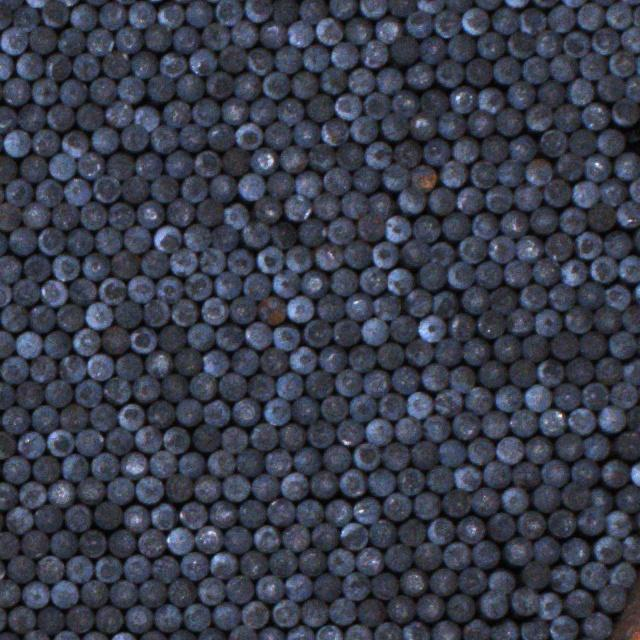tool: (582, 612, 613, 640), (445, 592, 474, 621), (596, 585, 626, 613), (436, 59, 464, 88), (516, 512, 545, 540), (532, 482, 560, 511), (565, 589, 594, 617), (504, 537, 533, 565), (592, 535, 621, 563), (479, 589, 508, 617), (520, 561, 550, 588), (244, 320, 272, 348), (238, 551, 266, 579), (8, 554, 36, 582), (541, 458, 569, 486), (359, 39, 387, 67), (544, 233, 572, 261), (230, 346, 258, 374), (232, 396, 260, 424), (524, 102, 552, 130), (304, 370, 332, 398), (342, 240, 370, 268), (568, 408, 596, 436), (280, 522, 308, 550), (594, 356, 622, 384), (364, 142, 392, 170), (37, 228, 65, 256), (412, 540, 440, 568), (478, 360, 506, 388), (341, 571, 369, 599), (457, 566, 485, 594), (340, 522, 368, 550), (579, 332, 607, 360), (104, 426, 132, 454), (390, 36, 418, 64), (221, 146, 249, 174), (208, 500, 236, 528), (486, 513, 514, 541), (429, 567, 457, 595), (442, 540, 470, 568), (357, 598, 385, 626), (308, 469, 336, 497), (500, 208, 528, 236), (97, 276, 125, 304), (312, 572, 340, 600), (511, 586, 539, 614), (109, 251, 137, 279), (580, 560, 608, 588), (456, 516, 484, 544), (258, 296, 286, 324), (548, 508, 576, 536), (560, 537, 588, 565), (298, 219, 326, 247), (165, 474, 192, 502), (324, 166, 351, 194), (138, 580, 165, 608), (310, 521, 337, 549), (50, 528, 77, 556), (28, 26, 56, 53), (555, 432, 582, 460), (497, 437, 524, 465), (148, 450, 176, 477), (208, 174, 235, 202), (34, 180, 62, 207), (137, 528, 164, 556), (378, 392, 405, 420), (590, 27, 618, 54), (93, 175, 121, 202), (251, 146, 278, 174), (70, 4, 98, 31), (581, 382, 608, 410), (127, 0, 155, 27), (135, 200, 162, 228), (233, 71, 260, 99), (196, 525, 223, 553), (382, 492, 409, 520), (550, 332, 577, 360), (191, 98, 218, 126), (192, 424, 220, 451), (240, 599, 267, 627), (508, 360, 536, 387), (262, 397, 290, 424), (226, 576, 253, 604), (271, 599, 299, 626), (33, 505, 60, 533), (188, 373, 215, 401), (134, 477, 162, 504), (79, 528, 106, 556), (348, 393, 376, 420), (201, 22, 228, 50), (169, 248, 197, 275), (86, 302, 113, 330), (406, 338, 433, 366), (206, 449, 234, 476), (518, 284, 545, 312), (222, 474, 250, 501), (198, 576, 225, 604), (566, 356, 593, 384), (180, 552, 207, 580), (477, 30, 504, 58), (250, 96, 277, 124), (189, 48, 216, 76), (394, 141, 422, 168), (45, 428, 72, 456), (145, 23, 172, 51), (610, 381, 638, 408), (167, 578, 194, 606), (298, 549, 326, 576), (496, 107, 523, 135), (261, 346, 288, 374), (235, 122, 262, 150), (417, 313, 444, 341), (534, 307, 561, 335), (574, 232, 601, 260), (317, 344, 344, 372), (354, 548, 381, 576), (328, 217, 355, 245), (392, 364, 419, 392), (278, 144, 305, 172), (94, 500, 121, 528), (471, 488, 498, 516), (415, 592, 442, 620), (461, 285, 488, 313), (60, 404, 87, 432), (236, 449, 264, 476), (412, 215, 439, 243), (330, 268, 357, 296), (106, 201, 133, 229), (383, 542, 410, 570), (148, 400, 175, 428), (59, 79, 86, 107), (15, 379, 42, 407), (344, 293, 372, 320), (540, 128, 567, 156), (262, 72, 289, 100), (155, 603, 182, 631), (447, 33, 475, 60), (582, 432, 610, 459), (153, 224, 181, 251), (514, 182, 541, 210), (264, 122, 291, 150), (63, 176, 90, 204), (95, 604, 122, 632), (569, 128, 596, 156), (372, 293, 400, 320), (22, 253, 50, 280), (302, 44, 329, 72), (122, 125, 150, 152), (347, 343, 374, 371), (1, 455, 28, 483), (442, 212, 470, 239), (306, 420, 334, 447), (398, 519, 426, 546), (251, 422, 278, 450), (602, 230, 629, 258), (501, 485, 528, 513), (472, 539, 499, 567), (380, 443, 408, 470), (434, 10, 461, 38), (398, 185, 426, 212), (577, 507, 605, 534), (300, 269, 327, 297), (406, 287, 433, 315), (247, 46, 274, 74), (547, 5, 574, 33), (356, 212, 383, 240), (512, 462, 540, 489), (572, 458, 600, 485), (442, 489, 470, 516), (609, 50, 637, 77), (560, 481, 588, 508), (256, 574, 283, 601), (165, 527, 192, 554), (486, 235, 513, 262), (279, 473, 306, 500), (321, 396, 348, 423), (9, 228, 36, 255), (269, 550, 296, 577), (284, 245, 311, 272), (205, 123, 232, 150), (552, 383, 579, 410), (166, 199, 193, 226), (303, 319, 330, 346), (17, 432, 44, 459), (471, 213, 498, 240), (543, 178, 570, 205), (349, 115, 376, 142), (151, 175, 178, 202), (267, 499, 294, 526), (19, 482, 46, 509), (492, 56, 519, 83), (0, 407, 27, 434), (296, 500, 323, 527), (264, 448, 291, 475), (218, 374, 245, 401), (184, 223, 211, 250), (193, 149, 220, 176), (523, 384, 550, 411), (120, 452, 147, 479), (335, 142, 362, 169), (330, 597, 357, 624), (557, 207, 584, 234), (230, 20, 257, 47), (283, 574, 310, 601), (116, 351, 143, 378), (75, 103, 102, 130), (287, 294, 314, 321), (89, 403, 116, 430), (531, 259, 558, 286), (315, 294, 342, 321), (524, 158, 551, 185), (209, 551, 236, 578), (140, 249, 167, 276), (382, 163, 409, 190), (38, 606, 65, 633), (215, 272, 242, 299), (344, 17, 371, 44), (406, 392, 433, 419), (117, 75, 144, 102), (418, 37, 445, 64), (405, 9, 432, 36), (300, 598, 327, 625), (465, 386, 492, 413), (483, 460, 510, 487), (423, 415, 450, 442), (132, 376, 159, 403), (451, 135, 478, 162), (171, 26, 198, 53), (158, 325, 185, 352), (75, 428, 102, 455), (47, 104, 74, 131), (104, 99, 131, 126), (325, 498, 352, 525), (16, 53, 43, 80), (76, 478, 103, 505), (162, 100, 189, 127), (174, 348, 201, 375), (205, 72, 232, 99), (213, 601, 240, 628), (178, 502, 205, 529), (9, 605, 36, 632), (556, 152, 583, 179), (22, 201, 49, 228), (115, 300, 142, 327), (564, 306, 591, 333), (271, 269, 298, 296), (589, 256, 616, 283), (152, 555, 179, 582), (475, 262, 502, 289), (52, 254, 79, 281), (386, 268, 413, 295), (488, 286, 515, 313), (254, 195, 281, 222), (58, 28, 85, 55), (528, 206, 555, 233), (91, 126, 118, 153), (291, 72, 318, 99), (461, 338, 488, 365), (447, 262, 474, 289), (68, 278, 95, 305), (424, 137, 451, 164), (150, 126, 177, 153), (13, 5, 40, 32), (125, 604, 152, 631), (219, 45, 246, 72), (518, 8, 545, 35), (549, 565, 576, 592), (374, 15, 401, 42), (174, 73, 201, 100), (409, 113, 436, 140), (400, 569, 427, 596), (598, 177, 625, 204), (577, 280, 604, 307), (1, 77, 28, 104), (313, 244, 340, 271), (425, 465, 452, 492), (45, 378, 71, 406), (201, 297, 227, 325), (37, 555, 63, 583), (22, 529, 48, 557), (125, 554, 151, 582), (127, 274, 153, 302), (92, 452, 118, 480), (65, 554, 91, 582), (253, 473, 279, 501), (510, 409, 536, 437), (452, 412, 478, 440), (458, 236, 484, 264), (508, 81, 534, 109), (48, 480, 74, 508), (110, 528, 136, 556), (290, 345, 316, 373), (257, 245, 283, 273), (383, 214, 409, 242), (332, 42, 358, 70), (320, 118, 346, 146), (80, 201, 106, 229), (89, 76, 115, 104), (360, 266, 386, 294), (614, 152, 640, 180), (78, 152, 104, 180), (82, 579, 108, 607), (194, 475, 220, 503), (161, 373, 187, 401), (56, 304, 82, 332), (314, 17, 340, 45), (225, 525, 251, 553), (290, 395, 316, 423), (182, 602, 208, 630), (438, 440, 464, 468), (100, 52, 128, 78), (386, 594, 412, 622), (412, 492, 440, 518), (274, 44, 300, 72), (436, 338, 462, 366), (196, 198, 222, 226), (492, 334, 518, 362), (335, 368, 361, 396), (86, 28, 112, 56), (146, 350, 172, 378), (549, 282, 575, 310), (550, 53, 576, 81), (76, 379, 102, 407), (156, 274, 182, 302), (328, 547, 354, 575), (116, 25, 142, 53), (610, 330, 636, 358), (436, 388, 462, 416), (480, 136, 508, 162), (566, 78, 594, 104), (368, 468, 394, 496), (478, 308, 504, 336), (352, 164, 378, 192), (101, 326, 127, 354), (534, 535, 560, 563), (157, 0, 183, 28), (321, 446, 349, 472), (506, 309, 534, 335), (362, 92, 388, 120), (336, 418, 364, 444), (272, 325, 300, 351), (452, 464, 480, 490), (308, 143, 334, 171), (448, 312, 474, 340), (603, 460, 629, 488), (62, 130, 88, 158), (612, 98, 640, 124), (607, 0, 633, 28), (593, 306, 619, 334), (241, 220, 269, 246), (467, 57, 492, 86), (615, 431, 640, 460), (31, 456, 58, 482), (188, 324, 214, 351), (0, 305, 26, 332), (347, 68, 373, 95), (58, 356, 84, 383), (94, 555, 121, 581), (63, 503, 89, 530), (174, 398, 201, 424), (98, 1, 124, 28), (124, 226, 150, 253), (397, 467, 424, 493), (362, 317, 388, 344), (0, 27, 26, 54), (74, 327, 100, 354), (4, 180, 30, 207), (522, 56, 548, 83), (494, 383, 520, 410), (185, 273, 211, 300), (94, 228, 120, 255), (536, 30, 562, 57), (220, 98, 247, 124), (455, 185, 481, 212), (60, 454, 86, 481), (596, 128, 623, 154), (334, 92, 360, 119), (294, 120, 320, 147), (243, 273, 269, 300), (422, 362, 448, 389), (30, 406, 56, 433), (587, 203, 613, 230), (30, 77, 56, 104), (228, 249, 254, 276), (230, 297, 256, 324), (267, 170, 293, 197), (540, 409, 566, 436), (538, 359, 564, 386), (163, 427, 189, 454), (276, 373, 302, 400), (312, 192, 339, 218), (410, 163, 436, 190), (238, 499, 264, 526), (129, 325, 155, 352), (74, 54, 100, 81), (364, 418, 391, 444), (340, 468, 366, 495), (83, 254, 109, 281), (178, 125, 204, 152), (203, 399, 229, 426), (375, 67, 401, 94), (460, 8, 486, 35), (6, 507, 32, 534), (341, 190, 367, 217), (216, 323, 243, 349), (122, 175, 148, 202), (254, 525, 280, 552), (605, 510, 631, 537), (87, 352, 114, 378), (135, 153, 161, 180), (598, 406, 624, 433), (24, 582, 50, 609), (582, 101, 608, 128), (440, 161, 466, 188), (509, 134, 536, 160), (390, 315, 417, 341), (110, 581, 136, 608), (352, 443, 378, 470), (165, 151, 191, 178), (293, 448, 320, 474), (515, 235, 541, 262), (352, 496, 378, 523), (405, 63, 432, 89), (102, 378, 129, 404), (368, 520, 394, 547), (276, 97, 302, 124), (180, 173, 206, 200), (449, 86, 475, 113), (372, 240, 398, 267), (438, 111, 464, 138), (66, 229, 92, 256), (554, 104, 580, 131), (211, 223, 237, 250), (66, 604, 92, 631), (468, 438, 494, 465), (484, 184, 510, 211), (524, 436, 550, 463), (333, 319, 359, 346), (222, 427, 248, 454), (277, 423, 303, 450), (428, 518, 455, 544), (573, 181, 599, 208), (295, 170, 322, 196), (482, 411, 508, 438), (421, 89, 448, 115), (402, 240, 429, 266), (249, 373, 275, 400), (596, 75, 622, 102), (490, 8, 517, 34), (307, 95, 333, 122), (466, 109, 492, 136), (371, 571, 397, 598), (584, 155, 610, 182), (418, 264, 445, 290), (608, 560, 635, 586), (488, 569, 515, 595), (562, 32, 589, 58), (604, 282, 630, 309), (42, 0, 69, 26), (433, 291, 459, 318), (29, 354, 54, 382), (215, 0, 243, 25), (411, 442, 436, 470), (449, 364, 474, 392), (471, 160, 496, 188), (615, 483, 640, 511), (520, 616, 549, 640), (41, 280, 67, 306), (10, 279, 36, 305), (186, 0, 212, 26), (288, 20, 314, 46), (32, 130, 58, 156), (131, 51, 157, 77), (18, 104, 44, 130), (106, 478, 132, 504), (16, 332, 42, 358), (504, 260, 530, 286), (135, 425, 161, 451), (0, 356, 26, 382), (376, 343, 402, 369), (202, 348, 228, 374), (4, 130, 30, 156), (237, 172, 263, 198), (520, 336, 546, 362), (106, 153, 132, 179), (52, 582, 78, 608), (577, 4, 603, 30), (396, 416, 422, 442), (580, 54, 606, 80), (52, 202, 78, 228), (282, 195, 308, 221), (508, 32, 534, 58), (148, 74, 174, 100), (45, 331, 71, 357), (160, 53, 186, 79), (170, 300, 196, 326), (382, 112, 408, 138), (198, 249, 224, 275), (20, 156, 46, 182), (118, 403, 144, 429), (133, 104, 159, 130), (559, 260, 585, 286), (536, 80, 562, 106), (261, 22, 287, 48), (478, 87, 504, 113), (224, 202, 250, 228), (390, 90, 416, 116), (269, 222, 295, 248), (49, 154, 74, 181), (144, 300, 169, 327), (29, 305, 54, 332), (151, 503, 176, 530), (428, 186, 453, 213), (124, 505, 149, 532), (364, 370, 389, 397), (497, 159, 522, 186), (46, 53, 71, 80), (550, 616, 578, 640), (539, 592, 563, 620), (321, 67, 346, 93), (177, 452, 203, 477), (587, 486, 611, 513), (491, 618, 520, 640), (616, 200, 640, 226), (430, 242, 456, 266), (367, 192, 391, 218), (299, 0, 326, 23), (432, 620, 462, 640), (618, 254, 640, 281), (462, 619, 490, 640), (246, 0, 273, 21), (0, 203, 21, 230), (621, 306, 640, 334), (272, 0, 296, 22), (622, 535, 640, 564), (0, 581, 20, 607), (621, 26, 640, 53), (403, 621, 430, 640), (0, 255, 19, 282), (330, 0, 357, 18), (0, 530, 18, 557), (373, 622, 400, 640), (359, 0, 387, 17), (623, 358, 640, 386), (0, 155, 16, 183), (0, 483, 16, 510), (0, 430, 15, 458), (287, 625, 315, 640), (315, 624, 341, 640), (387, 0, 414, 15), (625, 76, 640, 103), (230, 625, 257, 640), (626, 406, 640, 434), (0, 380, 14, 408), (345, 625, 371, 640), (0, 106, 15, 132), (417, 0, 444, 14), (0, 331, 14, 358), (198, 627, 226, 640), (258, 627, 285, 640), (445, 0, 472, 12), (628, 176, 640, 202), (0, 54, 12, 80), (0, 3, 12, 28), (23, 629, 50, 640), (0, 280, 11, 307), (169, 629, 195, 640), (629, 460, 640, 486), (53, 629, 79, 640), (475, 0, 502, 9), (83, 631, 110, 640), (139, 631, 166, 640), (0, 0, 23, 10), (109, 632, 136, 640), (633, 224, 640, 251), (530, 0, 557, 7), (633, 280, 640, 306), (633, 2, 640, 28), (633, 509, 640, 535), (505, 0, 530, 7), (25, 0, 50, 7), (0, 632, 21, 640), (559, 0, 587, 6), (0, 604, 6, 632), (0, 230, 6, 256), (588, 0, 618, 5), (82, 0, 110, 5), (54, 0, 80, 5), (0, 558, 5, 583)
